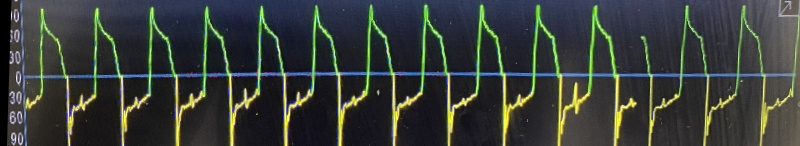hydrop_peepi: (21, 2, 646, 146), (657, 4, 790, 146)
